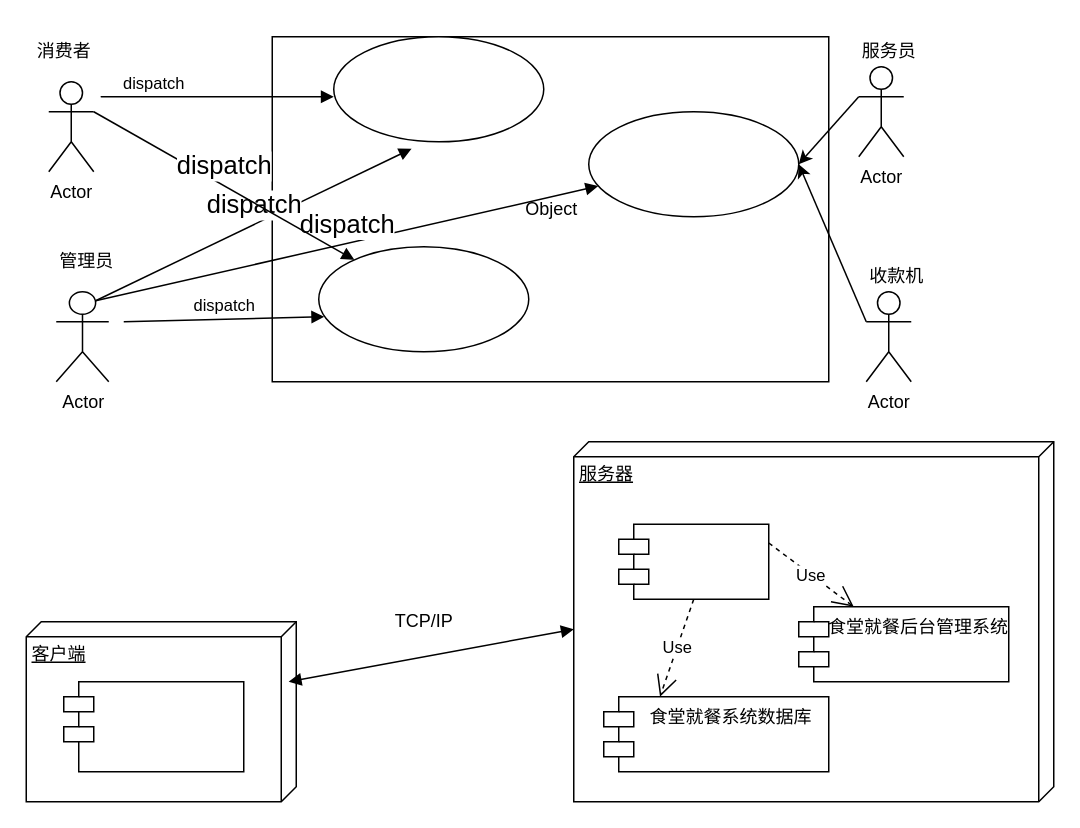
This 1080x828 diagram has some shape labels left out. Here are the shapes that lost their labels. From the top down, the centre of each, then its label:
point 438,88: 注册缴费个人管理
point 693,163: 收款
point 423,298: 消费记录
point 693,561: 食堂就餐系统
point 153,726: 食堂就餐系统页面
